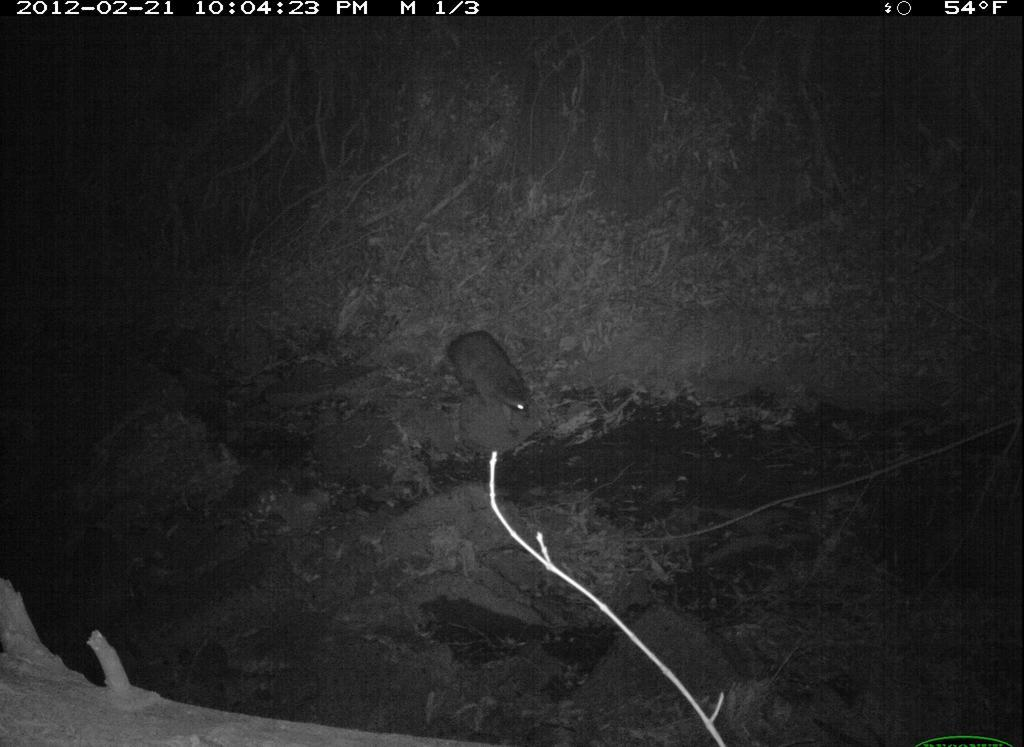raccoon: (441, 328, 542, 441)
